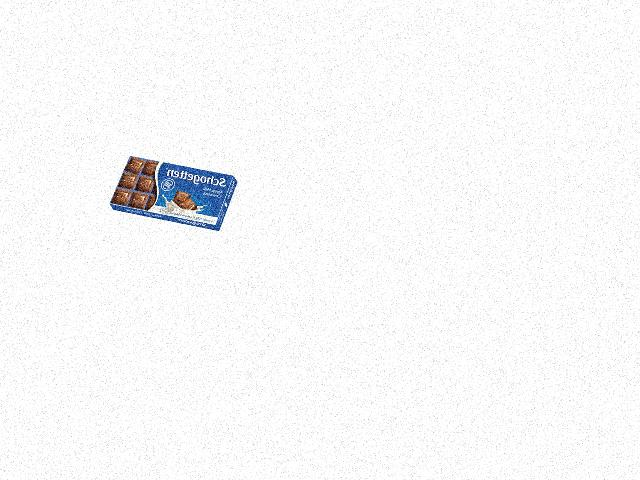chocolate: (108, 155, 239, 220)
